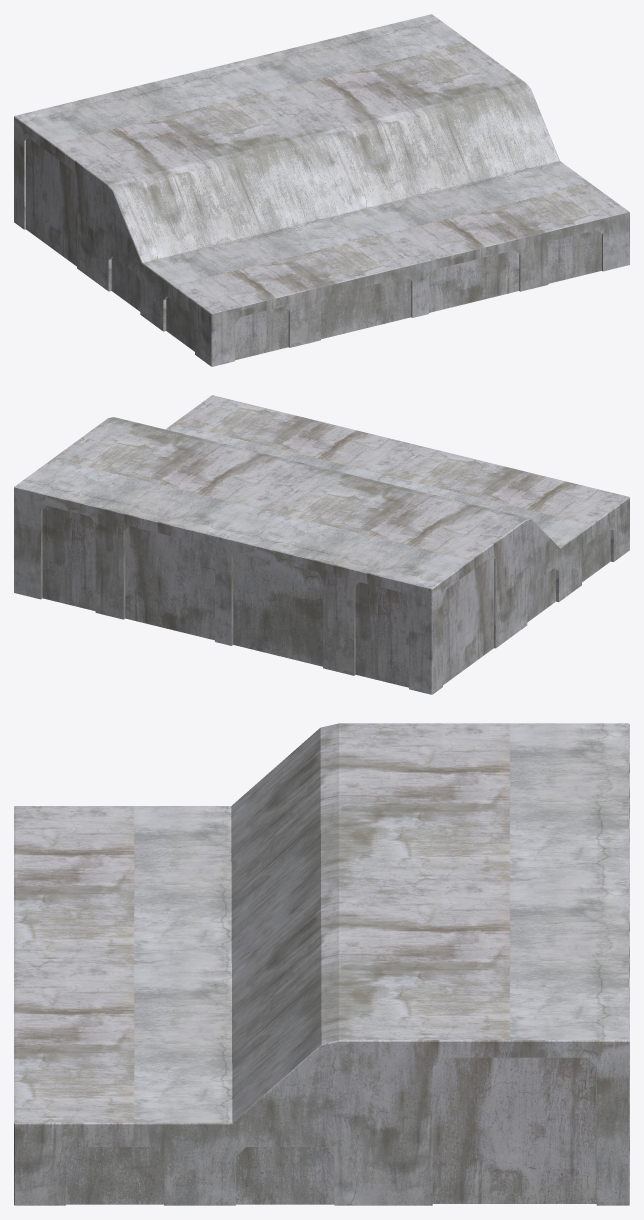
Rendered from site_hill11.fbx.
3 renders of one model, top to bottom at view 1: azimuth 30°, elevation 25°; view 2: azimuth 150°, elevation 25°; view 3: azimuth 270°, elevation 25°, orthographic. The views are drawn at different scales.
Visible parts, largest first — view 1: site_hill11; view 2: site_hill11; view 3: site_hill11.
Part boxes in pixels (x1,y1,x2,y2): site_hill11: [14, 14, 629, 366]; site_hill11: [14, 395, 629, 694]; site_hill11: [14, 723, 629, 1205].
Bounding box in the file's own units: 33.29 × 8.07 × 27.29.
